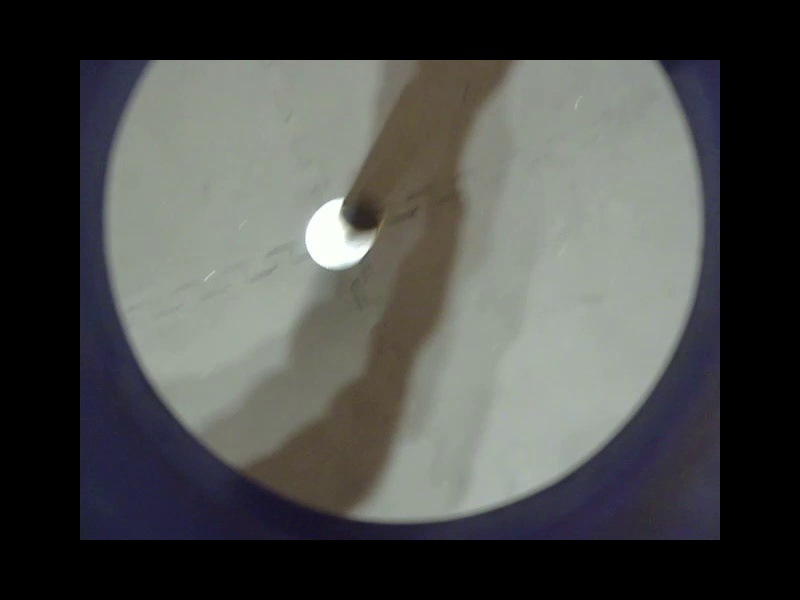tip: (449, 340, 557, 444)
